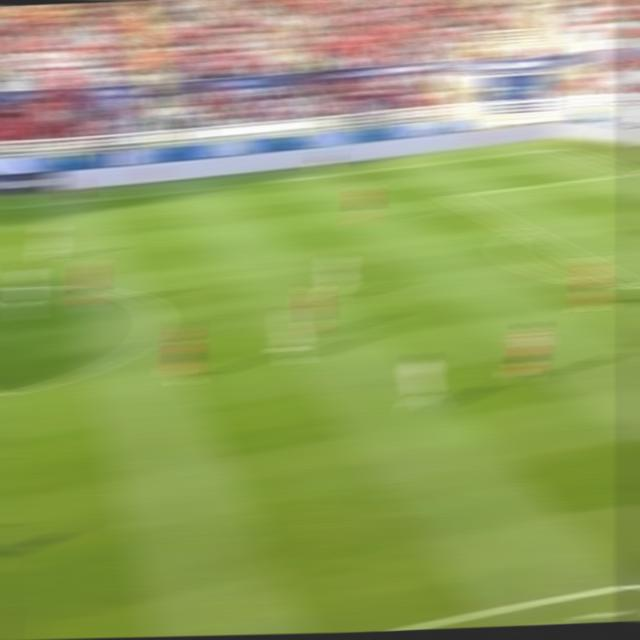bigarea_top_inner: (444, 188, 465, 201)
bigarea_top_outter: (620, 166, 640, 178)
bottom_arc_area_intersection: (625, 278, 640, 290)
corner: (546, 143, 568, 150)
top_arc_area_intersection: (511, 223, 531, 235)
